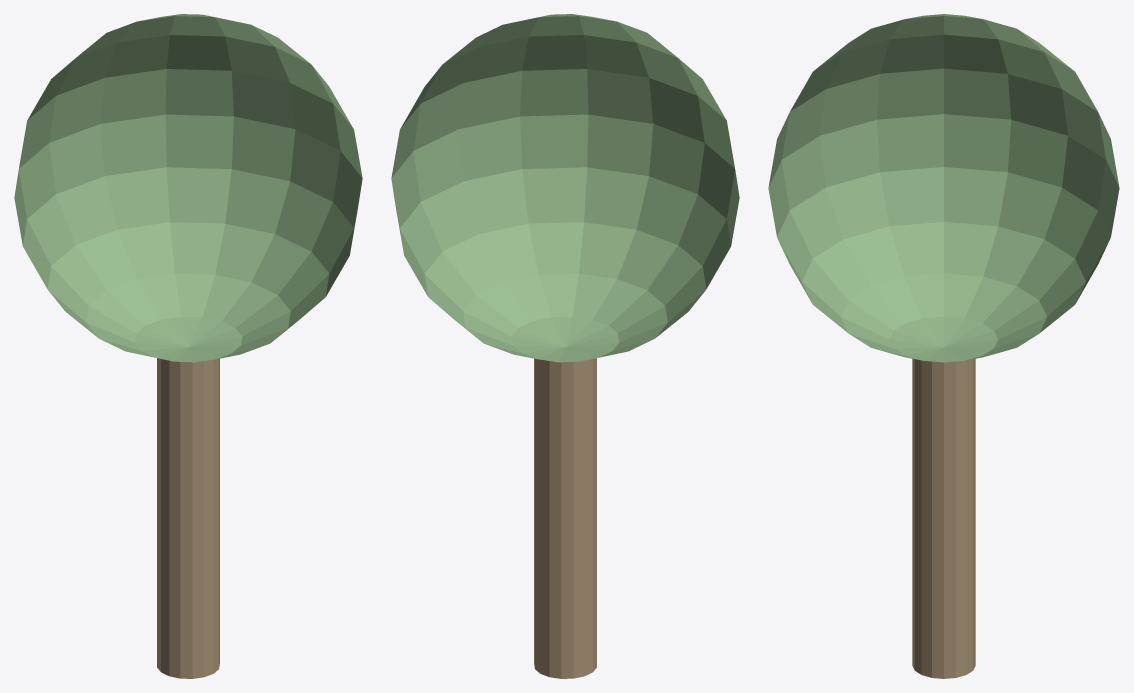
The model's file is tree-oak-before.glb.
3 renders of one model, left to right at view 1: azimuth 30°, elevation 25°; view 2: azimuth 150°, elevation 25°; view 3: azimuth 270°, elevation 25°, orthographic.
Parts seen in each view (by area): view 1: Development shape 2, Development shape 1; view 2: Development shape 2, Development shape 1; view 3: Development shape 2, Development shape 1.
Boxes of the visible parts, box(x1,y1,x2,y2) form: Development shape 2: box(14, 14, 362, 362); Development shape 1: box(157, 358, 219, 678); Development shape 2: box(391, 14, 739, 362); Development shape 1: box(534, 358, 596, 678); Development shape 2: box(768, 14, 1119, 362); Development shape 1: box(912, 359, 975, 678).
Size of the model in its own units: 2 by 4 by 2.
